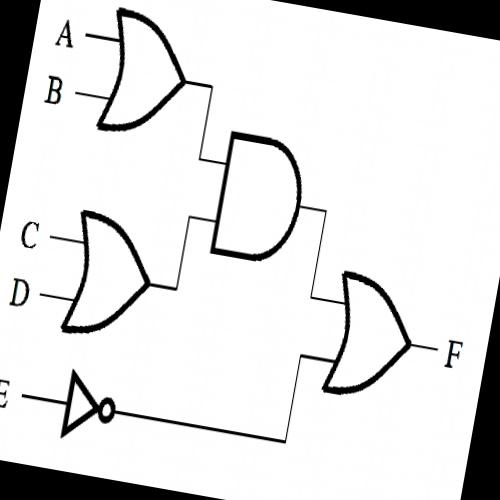and: (204, 121, 315, 274)
not: (53, 360, 127, 452)
or: (52, 200, 166, 351), (314, 260, 426, 413), (90, 0, 204, 150)
